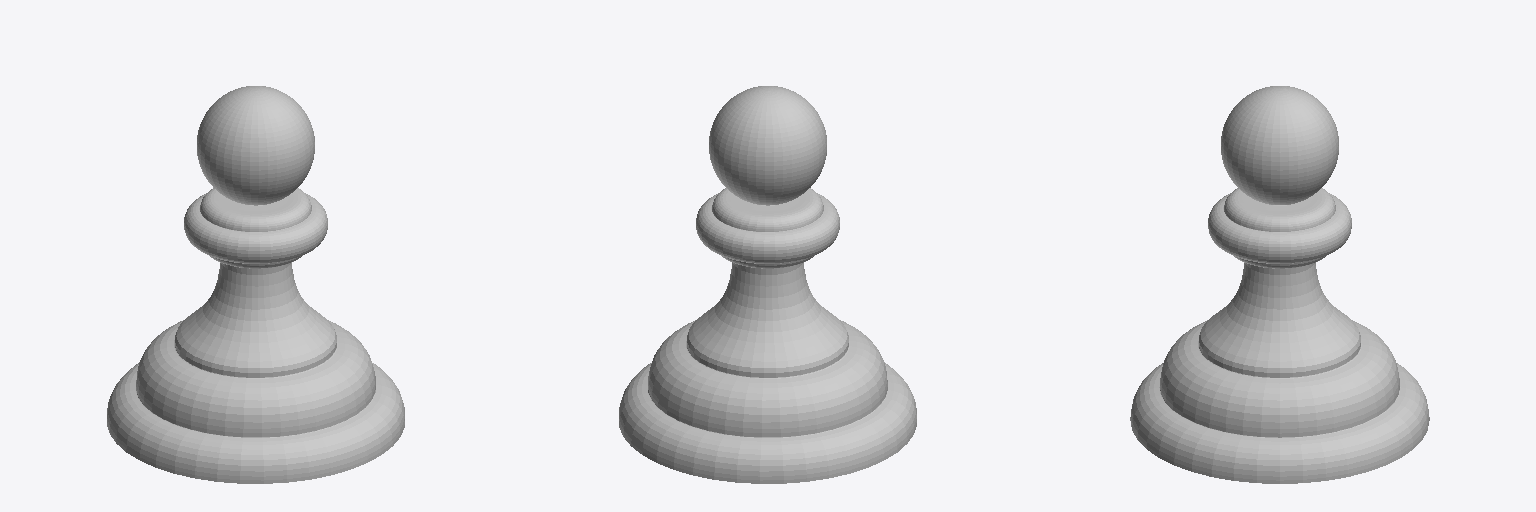
File: finalsoliderrightup8.obj
3 renders of one model, left to right at view 1: azimuth 30°, elevation 25°; view 2: azimuth 150°, elevation 25°; view 3: azimuth 270°, elevation 25°, orthographic.
Parts seen in each view (by area): view 1: white_pawn1_Mesh.003; view 2: white_pawn1_Mesh.003; view 3: white_pawn1_Mesh.003.
Part boxes in pixels (x1,y1,x2,y2): white_pawn1_Mesh.003: (107, 86, 404, 483); white_pawn1_Mesh.003: (619, 86, 916, 483); white_pawn1_Mesh.003: (1130, 86, 1429, 483).
Size of the model in its own units: 0.489 by 0.5954 by 0.489.